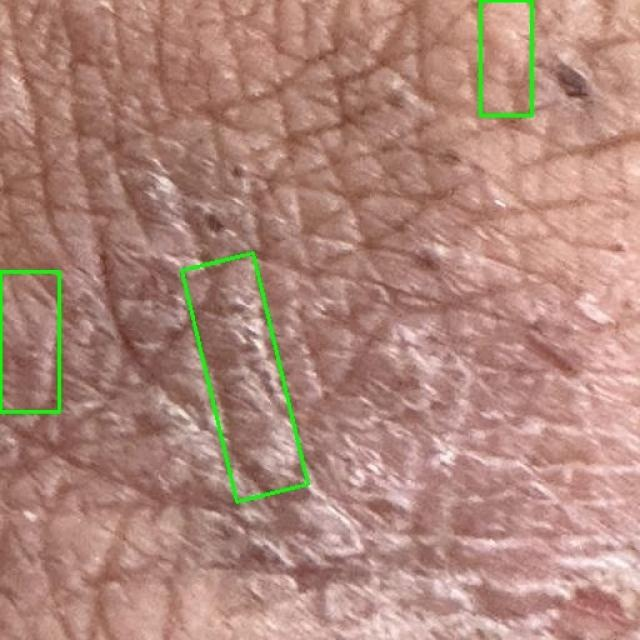Scabies: (182, 254, 308, 502), (0, 271, 59, 411), (480, 0, 531, 115)
